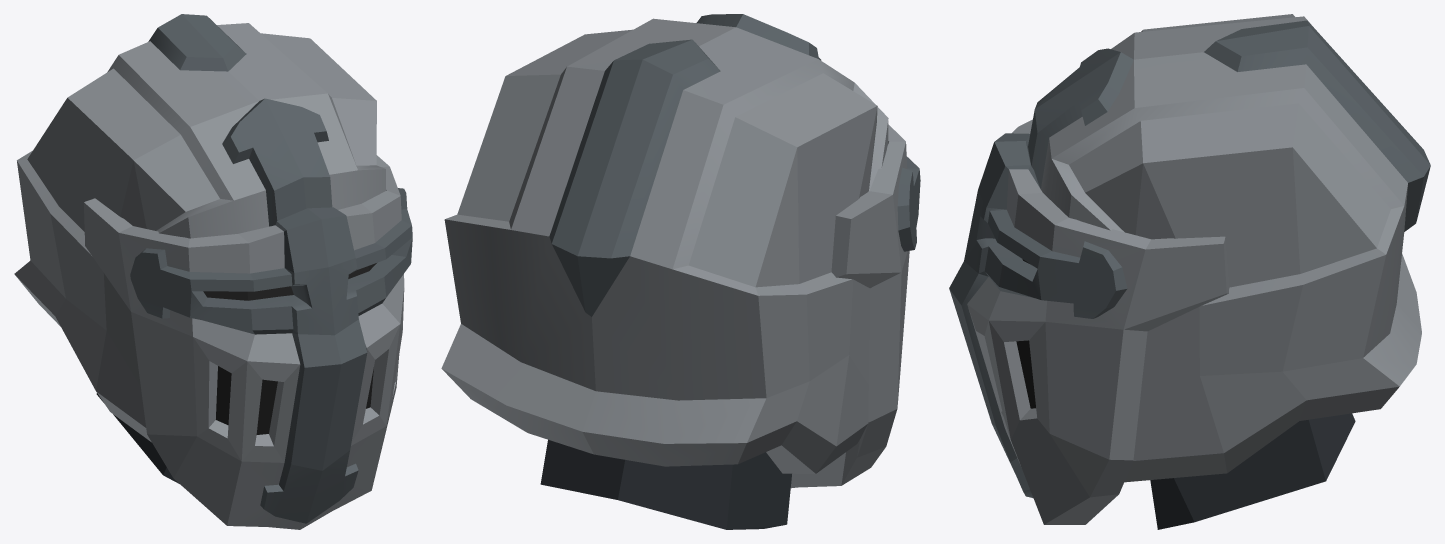
The model's file is Chr_Head_No_Elements_Male_11_Static.fbx.
3 views of the same model, side by side, from view 1: azimuth 30°, elevation 25°; view 2: azimuth 150°, elevation 25°; view 3: azimuth 270°, elevation 25° (orthographic). The views are drawn at different scales.
Visible parts, largest first — view 1: Chr_Head_No_Elements_Male_11_Static; view 2: Chr_Head_No_Elements_Male_11_Static; view 3: Chr_Head_No_Elements_Male_11_Static.
Part boxes in pixels (x1,y1,x2,y2): Chr_Head_No_Elements_Male_11_Static: [14, 14, 412, 529]; Chr_Head_No_Elements_Male_11_Static: [441, 14, 920, 529]; Chr_Head_No_Elements_Male_11_Static: [949, 14, 1430, 529].
Size of the model in its own units: 0.2455 by 0.3716 by 0.3329.
